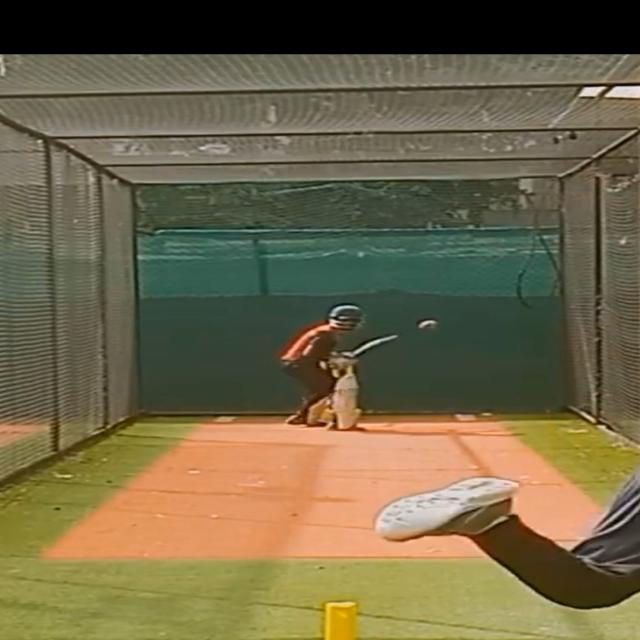ball: (414, 318, 440, 335)
